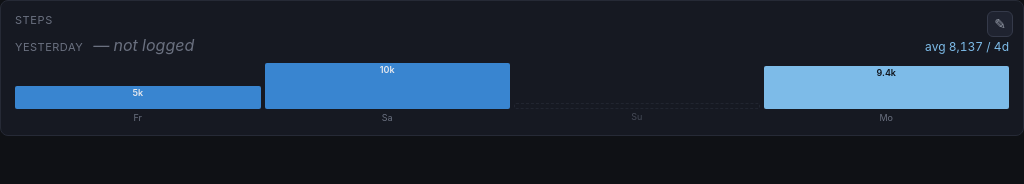
Test case: StepsBlock › shows an error and stays editing when save fails
Click the button with test id "block-edit".
click(1000, 24)  # box [987,11,1013,37]
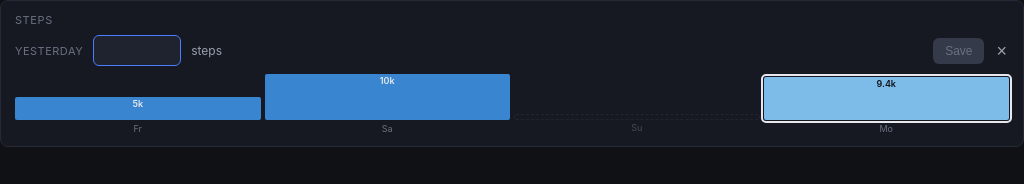
Type "9000" into the field with test id "steps-edit-input".
click(137, 50); type("9000")  # box [93,35,181,66]
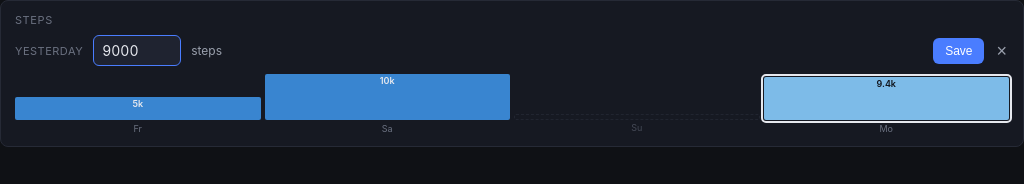
Click the button with test id "steps-edit-save".
click(959, 50)  # box [933,38,984,64]
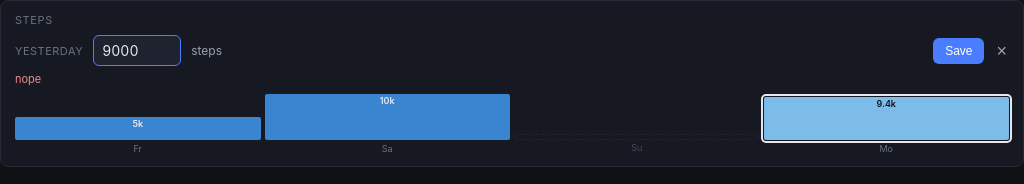
Now the text "nope" is shown, box [15,72,41,86]
